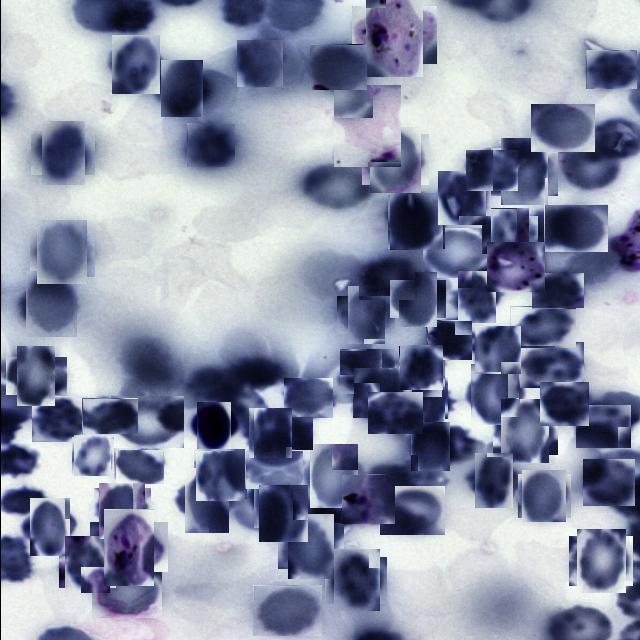leukocyte: (193, 405, 234, 445)
red blood cell: (110, 396, 183, 448), (302, 161, 374, 211), (20, 274, 80, 334), (252, 585, 321, 636), (422, 228, 492, 278), (365, 130, 424, 189), (494, 143, 552, 201), (91, 570, 161, 618), (33, 223, 90, 281), (572, 532, 628, 590), (305, 448, 362, 504), (379, 486, 444, 535), (282, 518, 338, 574), (250, 468, 306, 524), (497, 403, 552, 459), (388, 194, 443, 250), (559, 144, 623, 192), (530, 104, 594, 152), (543, 204, 607, 252), (467, 367, 522, 422), (178, 473, 233, 528), (328, 553, 382, 608), (519, 342, 583, 388), (108, 38, 162, 92), (35, 126, 89, 180), (256, 486, 310, 540), (509, 306, 575, 348), (436, 172, 488, 224), (308, 44, 366, 90), (194, 449, 245, 500), (96, 486, 148, 536), (338, 348, 394, 394), (61, 540, 112, 590), (581, 458, 634, 506), (31, 396, 86, 442), (24, 502, 74, 552), (156, 64, 206, 114), (10, 351, 60, 401), (352, 368, 402, 418), (574, 404, 630, 448), (358, 257, 414, 300), (367, 392, 422, 434), (520, 472, 568, 520), (341, 291, 389, 339), (473, 326, 521, 374), (245, 409, 293, 456), (464, 150, 517, 192), (245, 450, 302, 489), (469, 457, 516, 504), (235, 40, 282, 86), (486, 212, 533, 258), (394, 276, 441, 322), (539, 382, 588, 426), (186, 123, 234, 167), (454, 274, 499, 320), (406, 381, 451, 426), (81, 398, 137, 434), (585, 50, 636, 89), (408, 424, 452, 469), (399, 345, 443, 390), (283, 378, 332, 418), (531, 274, 583, 310), (426, 320, 472, 360), (115, 450, 163, 484), (264, 416, 312, 450), (72, 436, 112, 476)
ring: (486, 242, 544, 292)
trophozoite: (332, 84, 400, 167), (357, 0, 429, 70), (96, 515, 160, 579), (340, 474, 394, 524)
